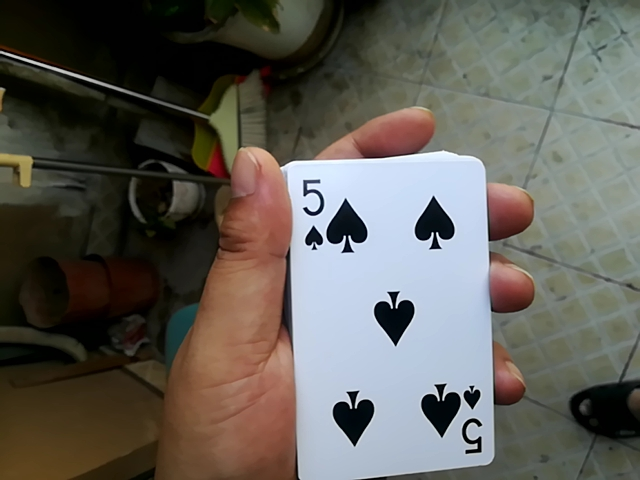ht 5: (278, 147, 494, 480)
